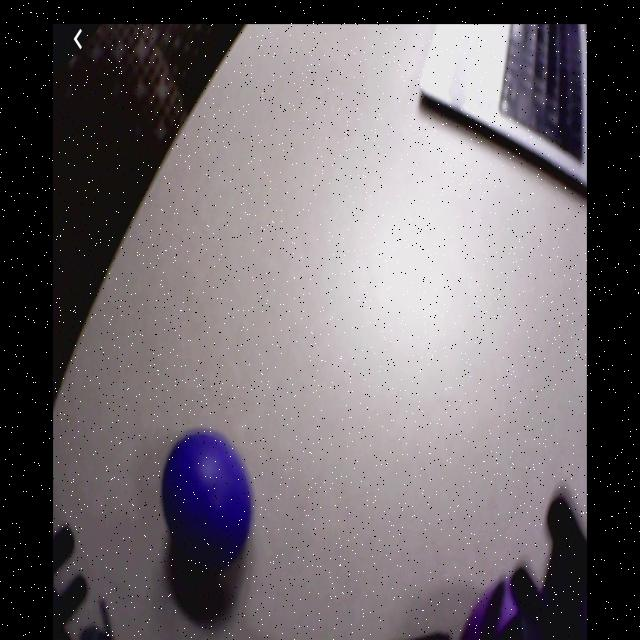ball: (164, 429, 250, 575), (461, 579, 540, 640)
